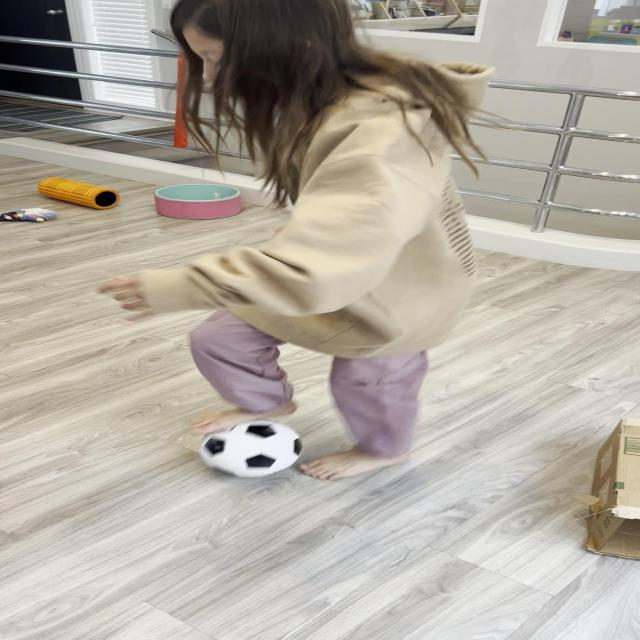Soccer Ball: (200, 419, 303, 478)
